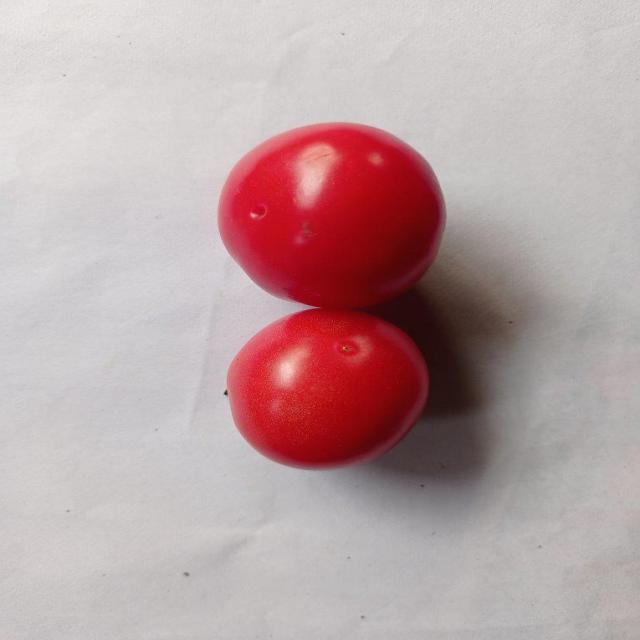Ripe: (215, 115, 454, 302), (215, 302, 438, 477)
